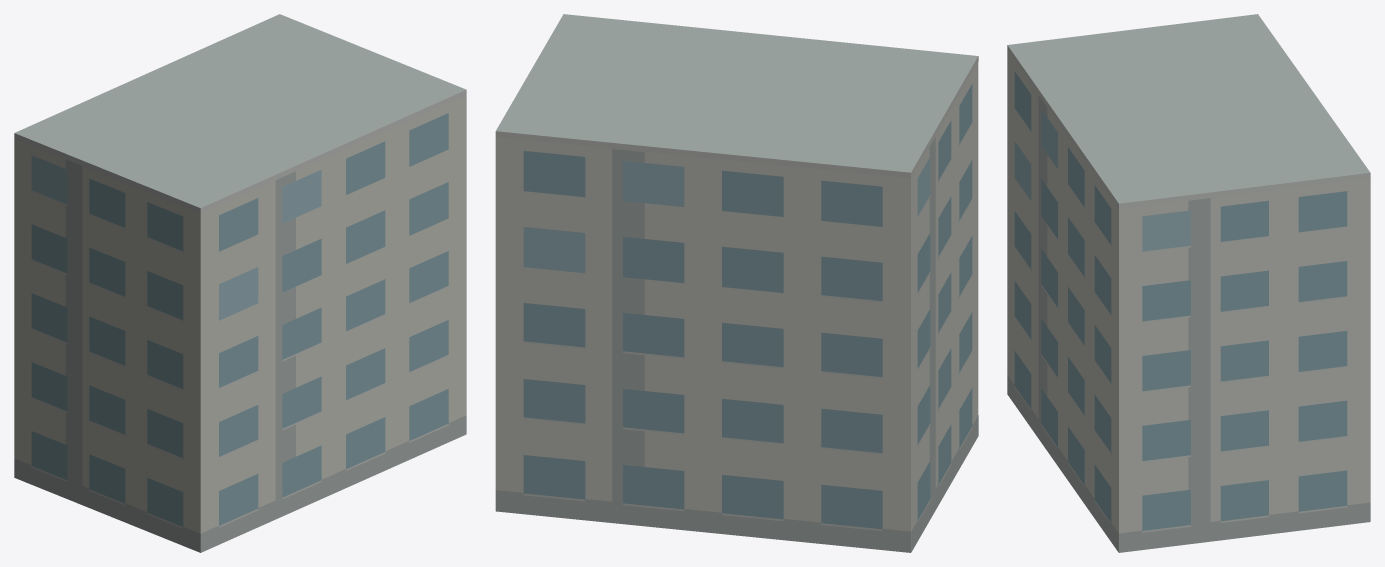
The model's file is survey-upis-33037090.glb.
3 renders of one model, left to right at view 1: azimuth 30°, elevation 25°; view 2: azimuth 150°, elevation 25°; view 3: azimuth 270°, elevation 25°, orthographic. The views are drawn at different scales.
Parts seen in each view (by area): view 1: survey-upis-33037090.tmp; view 2: survey-upis-33037090.tmp; view 3: survey-upis-33037090.tmp.
Boxes of the visible parts, x1,y1,x2,y2 form: survey-upis-33037090.tmp: (14, 14, 466, 552); survey-upis-33037090.tmp: (495, 14, 978, 552); survey-upis-33037090.tmp: (1007, 14, 1370, 552).
Size of the model in its own units: 17.78 by 15.25 by 14.39.
